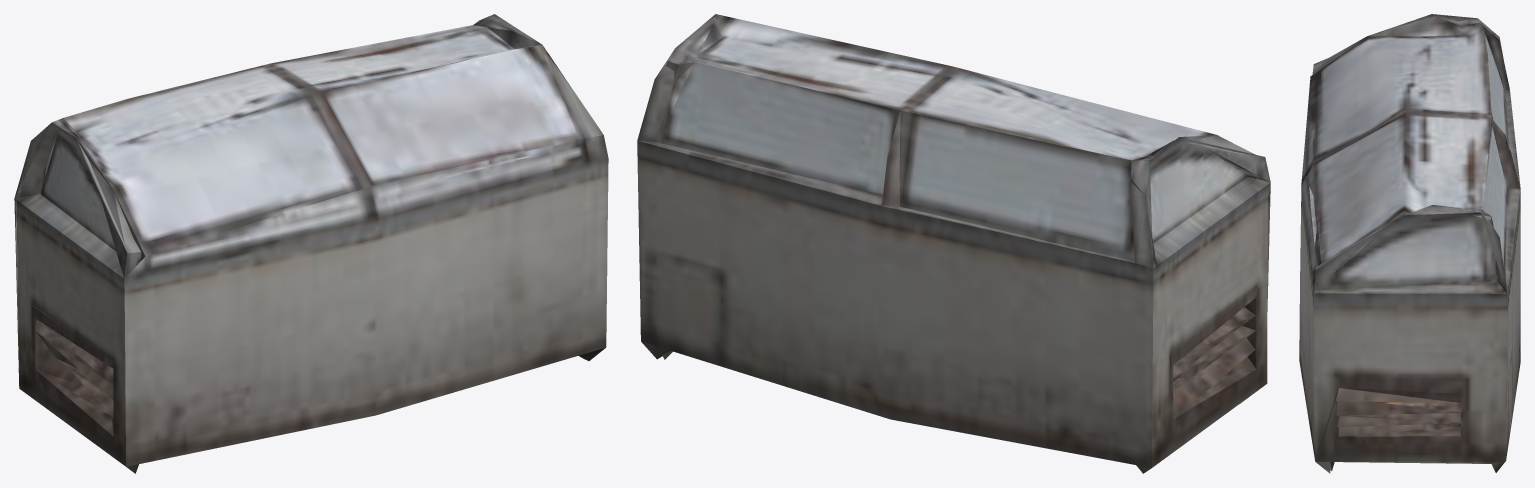
The model's file is p7-chest-freezer.glb.
3 views of the same model, side by side, from view 1: azimuth 30°, elevation 25°; view 2: azimuth 150°, elevation 25°; view 3: azimuth 270°, elevation 25° (orthographic). The views are drawn at different scales.
Visible parts, largest first — view 1: p7-chest-freezer; view 2: p7-chest-freezer; view 3: p7-chest-freezer.
Part boxes in pixels (x1=…): p7-chest-freezer: x1=14, y1=14, x2=608, y2=473; p7-chest-freezer: x1=637, y1=14, x2=1270, y2=473; p7-chest-freezer: x1=1299, y1=14, x2=1520, y2=473.
Bounding box in the file's own units: 1.48 × 0.85 × 0.65.
1 material, 1 textured.
